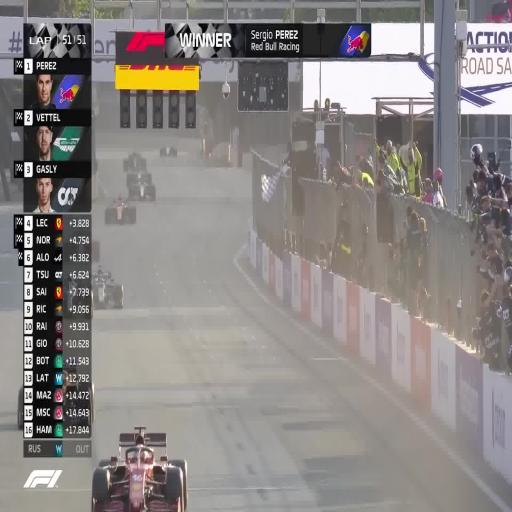f1_car: (91, 426, 187, 511), (61, 364, 94, 434), (123, 153, 155, 201), (92, 267, 123, 309), (105, 197, 136, 224), (128, 173, 156, 201), (17, 386, 29, 430), (32, 390, 55, 404), (55, 390, 57, 391), (27, 396, 28, 397)
